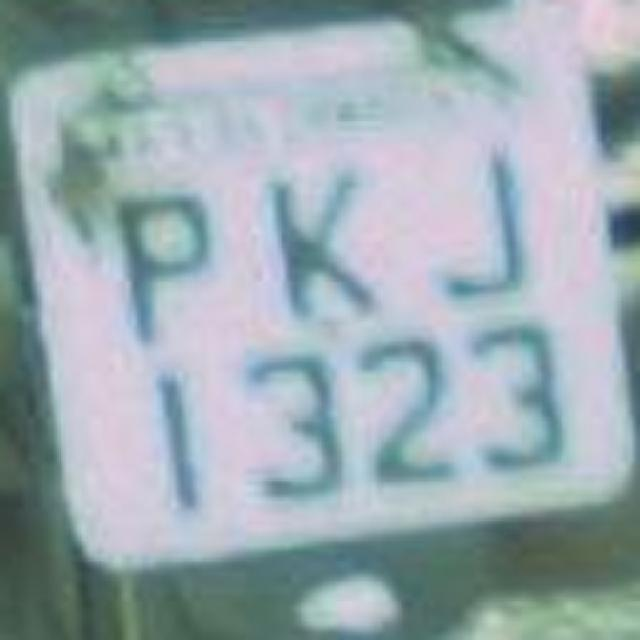1: (136, 356, 224, 512)
2: (332, 324, 480, 504)
3: (432, 300, 596, 495), (208, 329, 368, 516)
K: (248, 156, 388, 336)
P: (104, 176, 231, 352)
